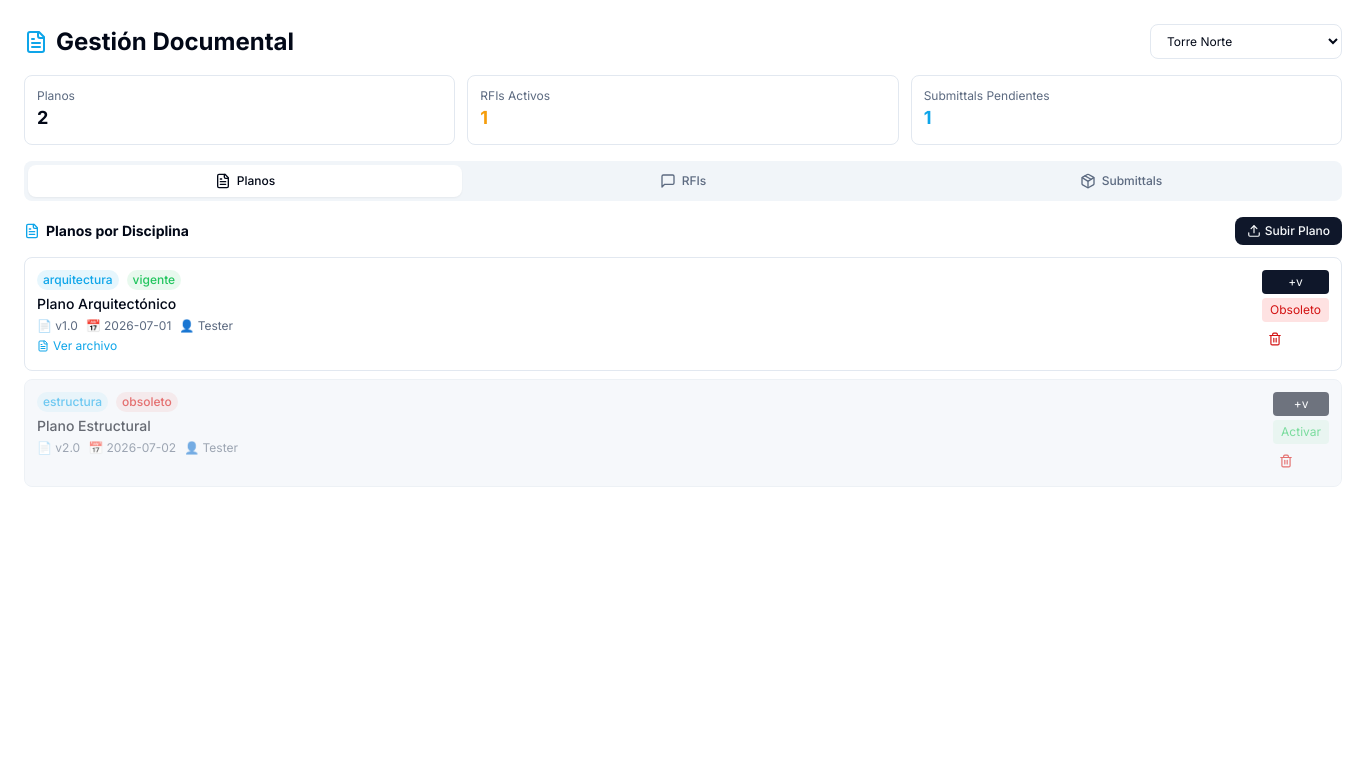
Test: GestionDocumental Screen › Formulario de carga de documentos › abre el formulario para crear un RFI
Click the button labelled "RFIs" at [683, 181], box [466, 165, 900, 197]
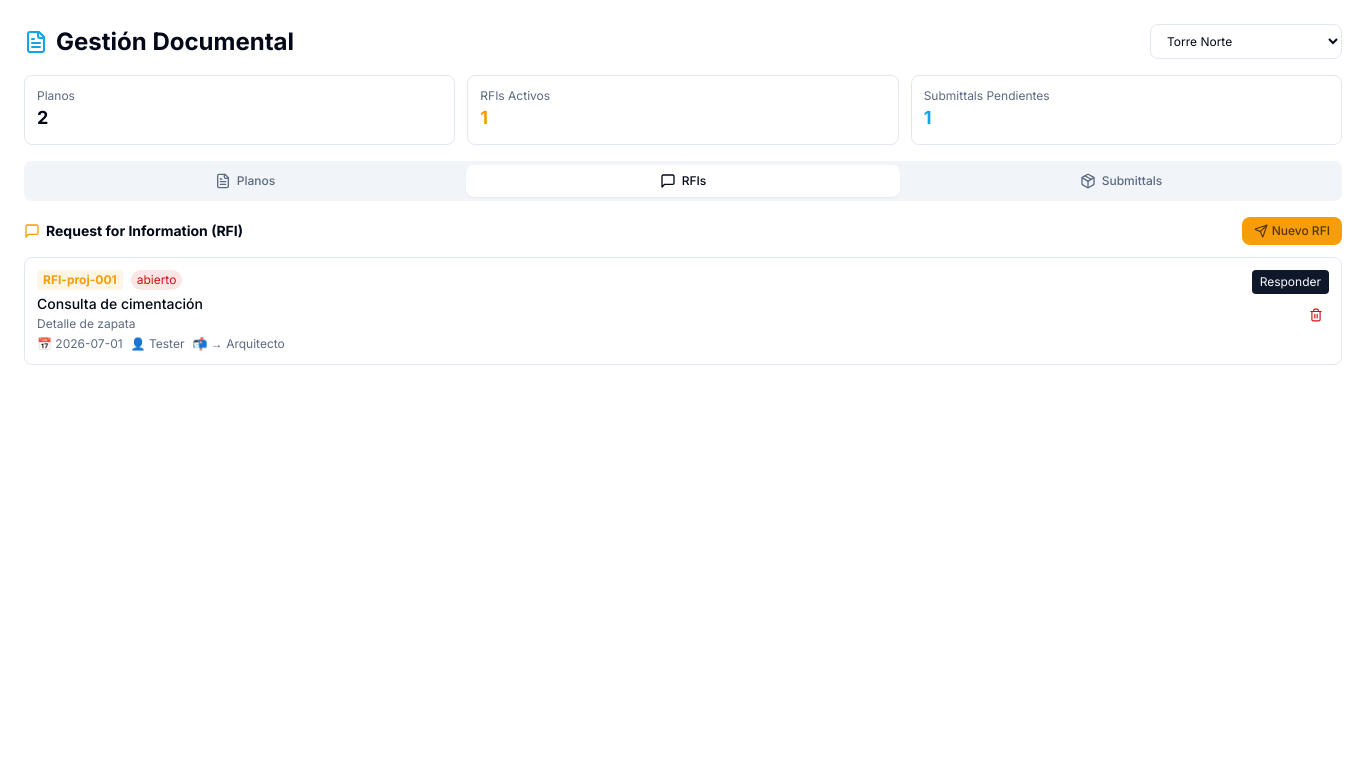
Expected: the button "Nuevo RFI" is shown
Click the button "Nuevo RFI" at [1292, 231], box [1242, 217, 1342, 245]
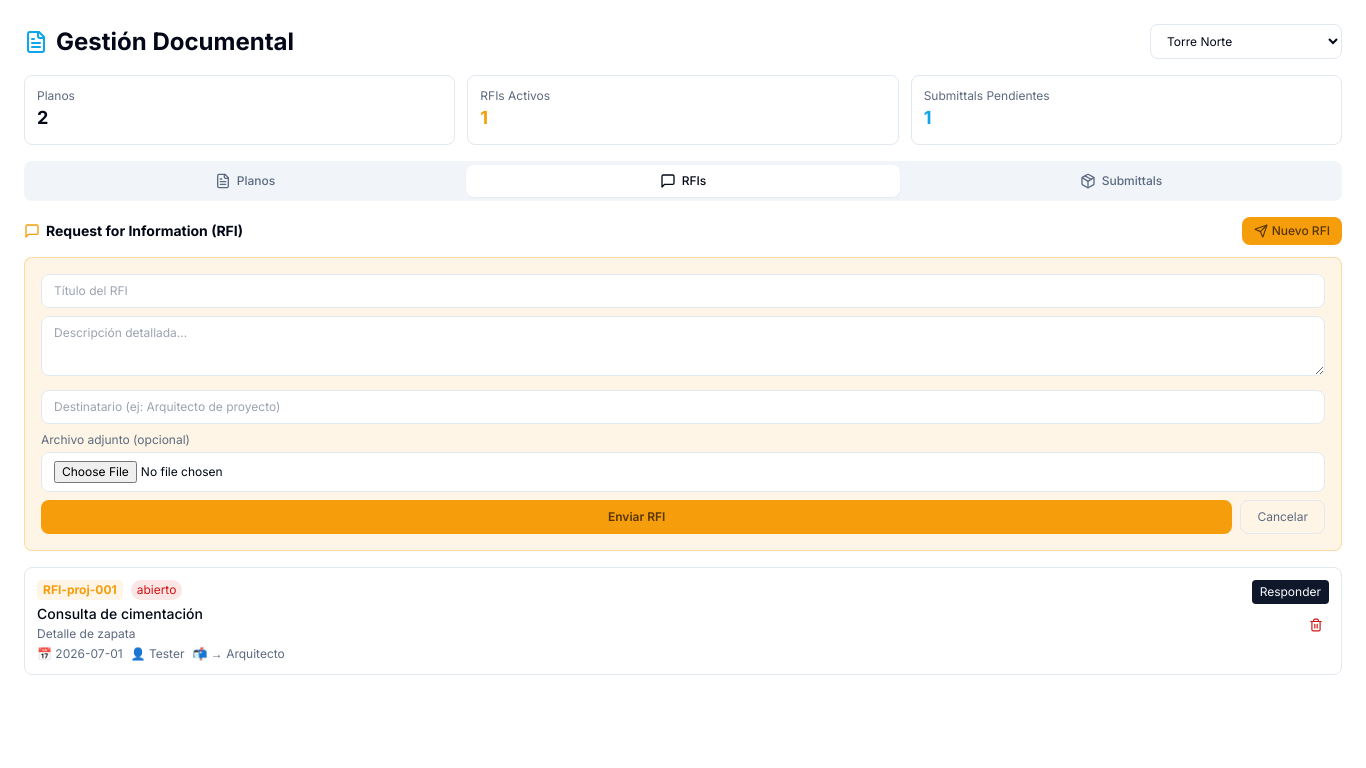
Expected: the field with placeholder "Título del RFI" is shown, [41, 274, 1325, 308]
